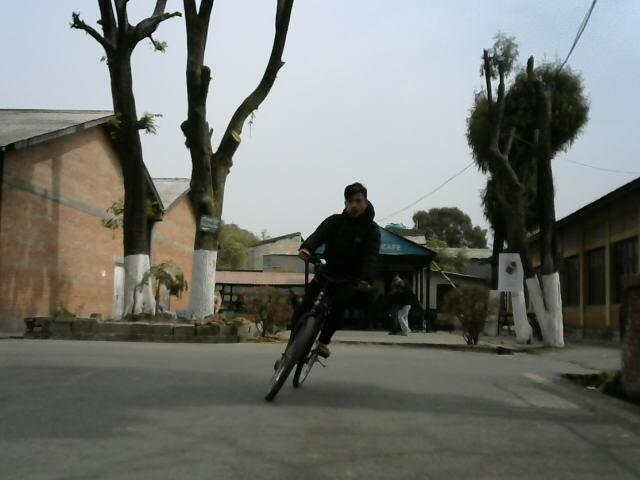Person: (272, 176, 382, 414)
Road: (1, 344, 640, 480)
Tree: (458, 36, 606, 357), (67, 0, 178, 325), (176, 0, 282, 315)
